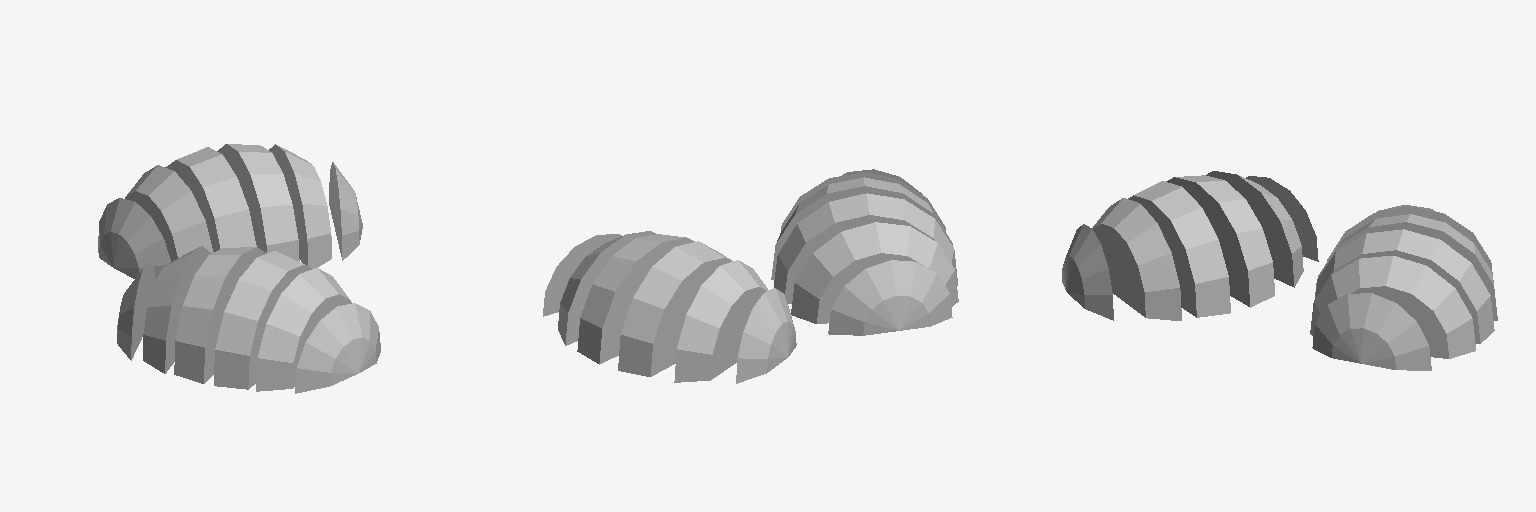
The model's file is onion_chop_3.obj.
3 views of the same model, side by side, from view 1: azimuth 30°, elevation 25°; view 2: azimuth 150°, elevation 25°; view 3: azimuth 270°, elevation 25° (orthographic).
Visible parts, largest first — view 1: Chop_4 Onion2 group1 Slice_10, Chop_4 Onion2 group1 Slice_9, Chop_4 Onion2 group1 Slice_8, Chop_4 Onion2 Slice_7 group1, Chop_4 Onion2 Slice_4, Chop_4 Onion2 Slice_3, Chop_4 Onion2 Slice_6, Chop_4 Onion2 Slice_5, Chop_4 Onion2 group1 Slice_12, Chop_4 Onion2 Slice_2, Chop_4 Onion2 group1 Slice_11, Slice_1 Chop_4 Onion2; view 2: Chop_4 Onion2 Slice_3, Chop_4 Onion2 group1 Slice_12, Chop_4 Onion2 group1 Slice_11, Chop_4 Onion2 Slice_6, Chop_4 Onion2 group1 Slice_9, Chop_4 Onion2 Slice_4, Chop_4 Onion2 Slice_5, Chop_4 Onion2 Slice_2, Chop_4 Onion2 group1 Slice_10, Slice_1 Chop_4 Onion2, Chop_4 Onion2 group1 Slice_8; view 3: Chop_4 Onion2 Slice_2, Chop_4 Onion2 group1 Slice_8, Slice_1 Chop_4 Onion2, Chop_4 Onion2 group1 Slice_10, Chop_4 Onion2 group1 Slice_9, Chop_4 Onion2 Slice_4, Chop_4 Onion2 group1 Slice_12, Chop_4 Onion2 Slice_7 group1, Chop_4 Onion2 Slice_3, Chop_4 Onion2 group1 Slice_11, Chop_4 Onion2 Slice_6.
Part boxes in pixels (bbox=[...]): Chop_4 Onion2 group1 Slice_10: bbox=[214, 251, 311, 389]; Chop_4 Onion2 group1 Slice_9: bbox=[174, 247, 266, 383]; Chop_4 Onion2 group1 Slice_8: bbox=[256, 268, 351, 391]; Chop_4 Onion2 Slice_7 group1: bbox=[295, 303, 380, 393]; Chop_4 Onion2 Slice_4: bbox=[217, 144, 299, 261]; Chop_4 Onion2 Slice_3: bbox=[165, 147, 256, 251]; Chop_4 Onion2 Slice_6: bbox=[125, 165, 213, 261]; Chop_4 Onion2 Slice_5: bbox=[98, 198, 170, 278]; Chop_4 Onion2 group1 Slice_12: bbox=[143, 246, 211, 373]; Chop_4 Onion2 Slice_2: bbox=[269, 144, 331, 268]; Chop_4 Onion2 group1 Slice_11: bbox=[117, 262, 155, 360]; Slice_1 Chop_4 Onion2: bbox=[329, 162, 362, 260]; Chop_4 Onion2 Slice_3: bbox=[618, 241, 732, 376]; Chop_4 Onion2 group1 Slice_12: bbox=[791, 222, 958, 323]; Chop_4 Onion2 group1 Slice_11: bbox=[828, 260, 952, 335]; Chop_4 Onion2 Slice_6: bbox=[674, 260, 768, 382]; Chop_4 Onion2 group1 Slice_9: bbox=[774, 193, 957, 303]; Chop_4 Onion2 Slice_4: bbox=[577, 234, 694, 364]; Chop_4 Onion2 Slice_5: bbox=[736, 288, 796, 383]; Chop_4 Onion2 Slice_2: bbox=[558, 231, 655, 345]; Chop_4 Onion2 group1 Slice_10: bbox=[771, 177, 952, 279]; Slice_1 Chop_4 Onion2: bbox=[543, 234, 621, 316]; Chop_4 Onion2 group1 Slice_8: bbox=[781, 172, 945, 230]; Chop_4 Onion2 Slice_2: bbox=[1310, 256, 1475, 358]; Chop_4 Onion2 group1 Slice_8: bbox=[1092, 198, 1181, 320]; Slice_1 Chop_4 Onion2: bbox=[1312, 293, 1431, 370]; Chop_4 Onion2 group1 Slice_10: bbox=[1128, 181, 1230, 317]; Chop_4 Onion2 group1 Slice_9: bbox=[1166, 175, 1274, 307]; Chop_4 Onion2 Slice_4: bbox=[1315, 229, 1494, 343]; Chop_4 Onion2 group1 Slice_12: bbox=[1206, 171, 1303, 287]; Chop_4 Onion2 Slice_7 group1: bbox=[1062, 224, 1113, 320]; Chop_4 Onion2 Slice_3: bbox=[1318, 214, 1497, 320]; Chop_4 Onion2 group1 Slice_11: bbox=[1246, 176, 1318, 261]; Chop_4 Onion2 Slice_6: bbox=[1327, 206, 1494, 289].
Bounding box in the file's own units: 0.7585 × 0.2264 × 0.9263.